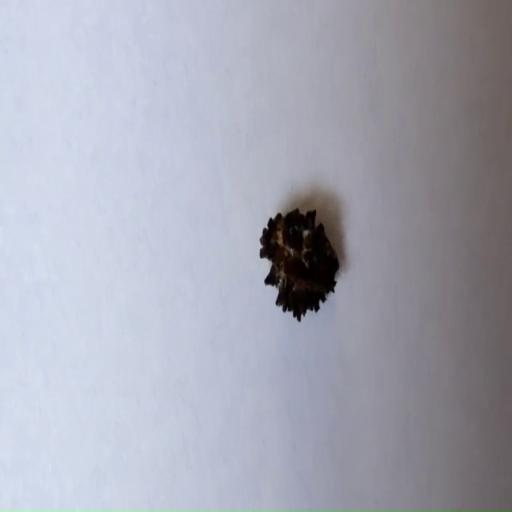papaya_seed: (242, 177, 358, 365)
